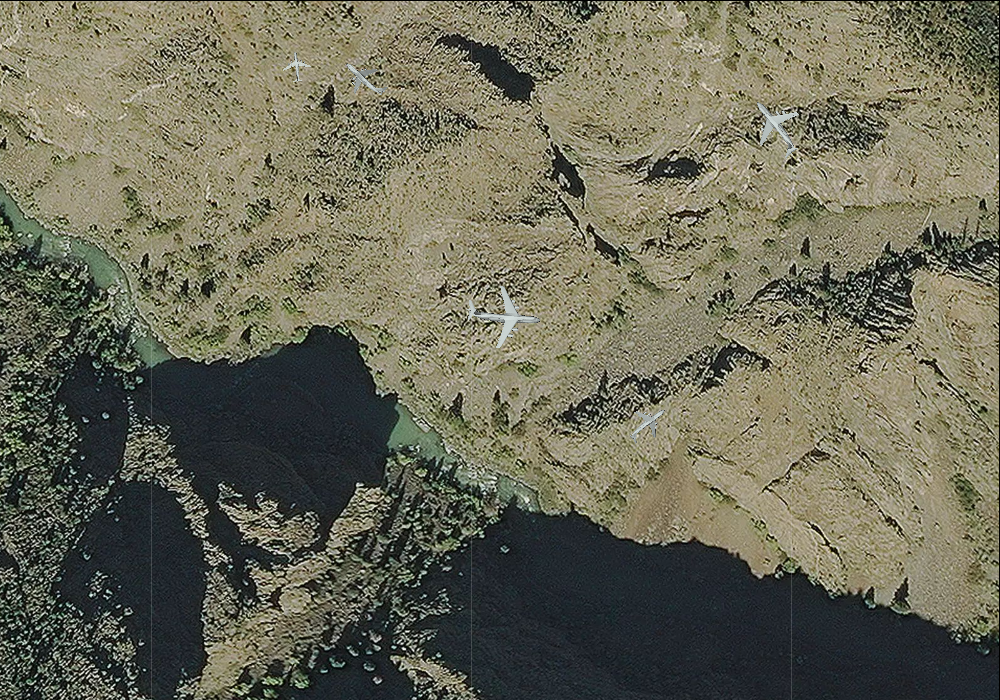plane: (733, 85, 818, 170), (463, 277, 543, 353), (333, 46, 397, 109), (618, 396, 677, 454), (279, 49, 312, 83)
